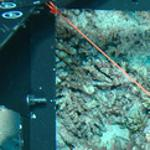dead: (53, 78, 146, 146)
